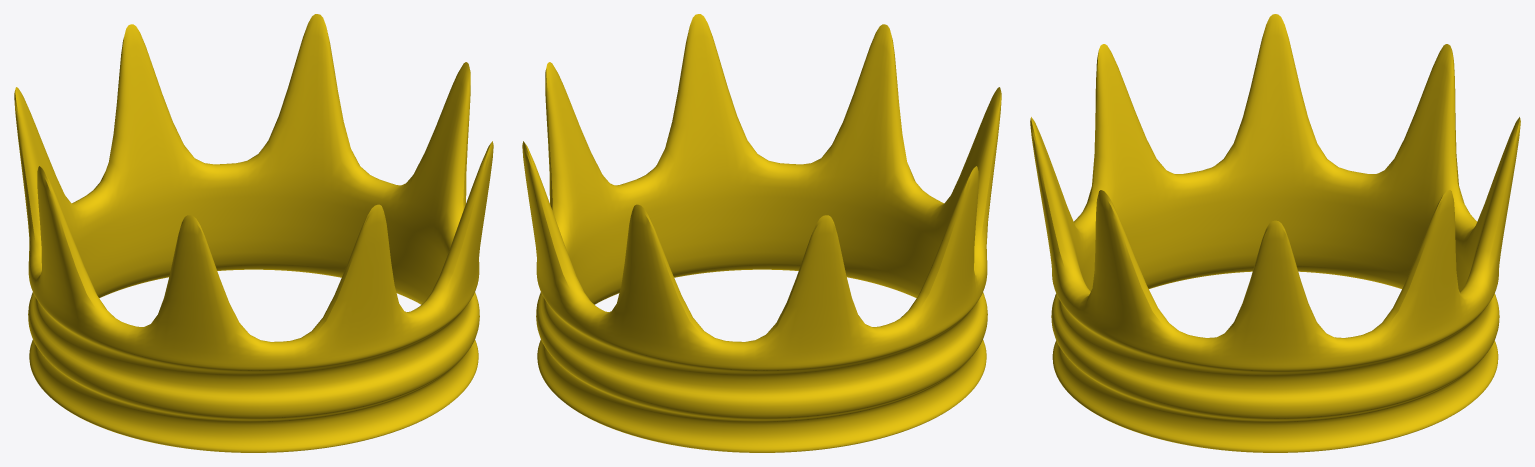
Rendered from top3.fbx.
3 views of the same model, side by side, from view 1: azimuth 30°, elevation 25°; view 2: azimuth 150°, elevation 25°; view 3: azimuth 270°, elevation 25° (orthographic).
Parts seen in each view (by area): view 1: Circle; view 2: Circle; view 3: Circle.
Part boxes in pixels (x1,y1,x2,y2): Circle: [14, 14, 493, 452]; Circle: [522, 14, 1001, 452]; Circle: [1030, 14, 1520, 452].
Size of the model in its own units: 70.23 by 38.41 by 70.23.
